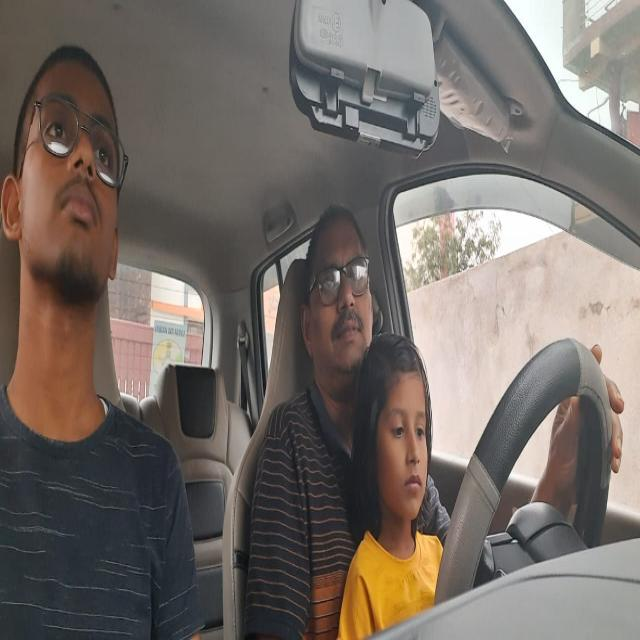child: (358, 335, 436, 527)
person: (3, 31, 128, 315), (297, 197, 377, 397)
